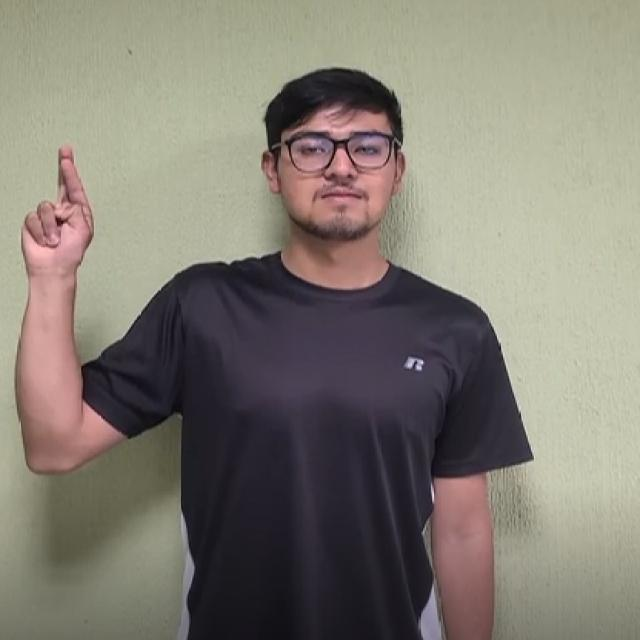R: (19, 136, 121, 312)
